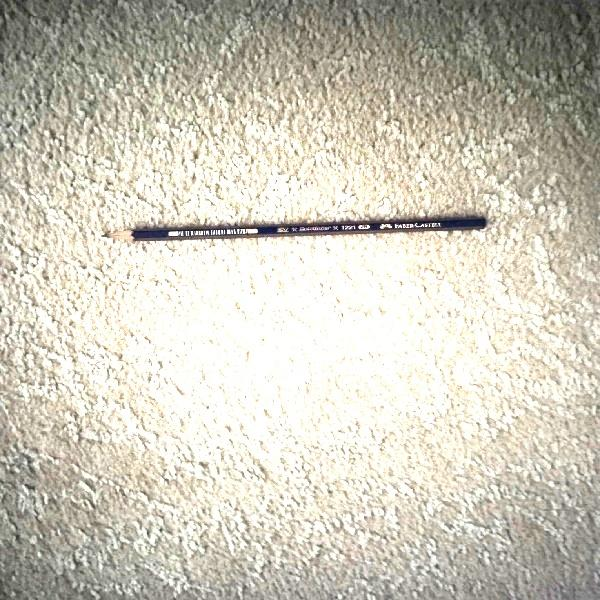pencil: (95, 209, 496, 247)
